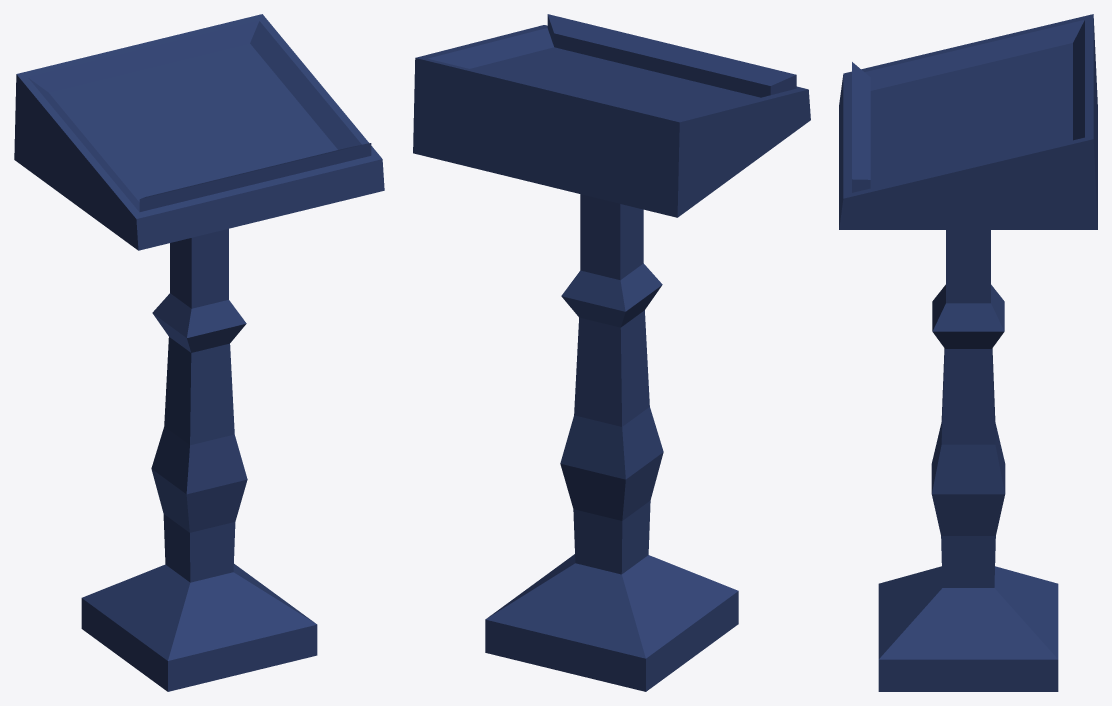
The model's file is Book Stand.001.fbx.
3 renders of one model, left to right at view 1: azimuth 30°, elevation 25°; view 2: azimuth 150°, elevation 25°; view 3: azimuth 270°, elevation 25°, orthographic. The views are drawn at different scales.
Visible parts, largest first — view 1: Book Stand.001; view 2: Book Stand.001; view 3: Book Stand.001.
Boxes of the visible parts, left/top/right/bottom form: Book Stand.001: left=14, top=14, right=384, bottom=691; Book Stand.001: left=413, top=14, right=810, bottom=691; Book Stand.001: left=839, top=14, right=1097, bottom=691.
Size of the model in its own units: 70.48 by 152 by 61.57.
